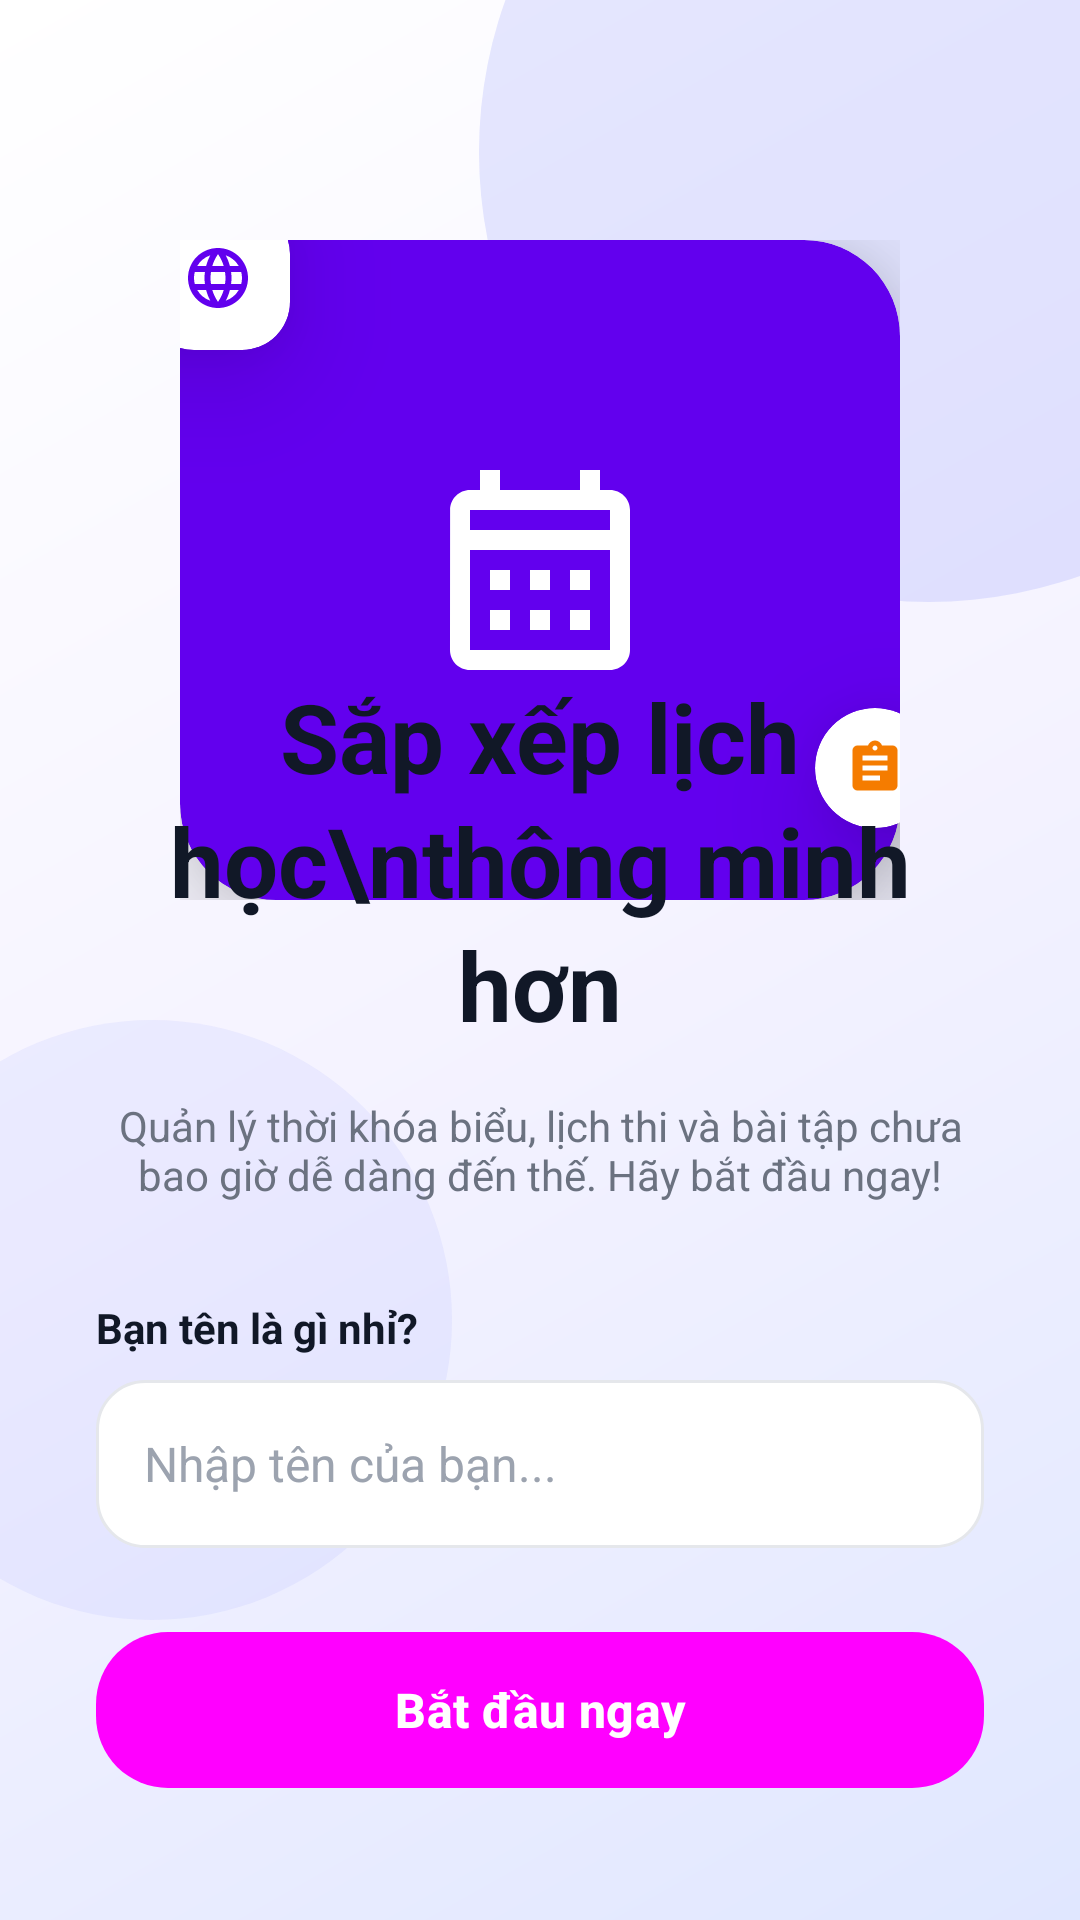

Named icons in this screenshot (1080px x 1920px) and their centers, point (x, y):
calendar: point (540, 570)
